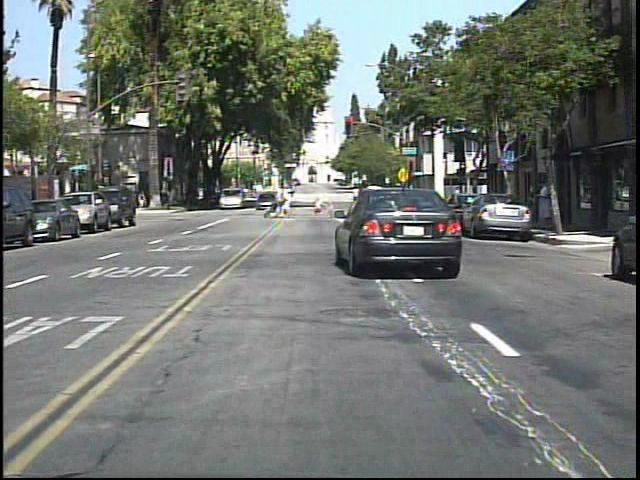person: (531, 175, 551, 231), (281, 183, 297, 221), (138, 190, 147, 213)
